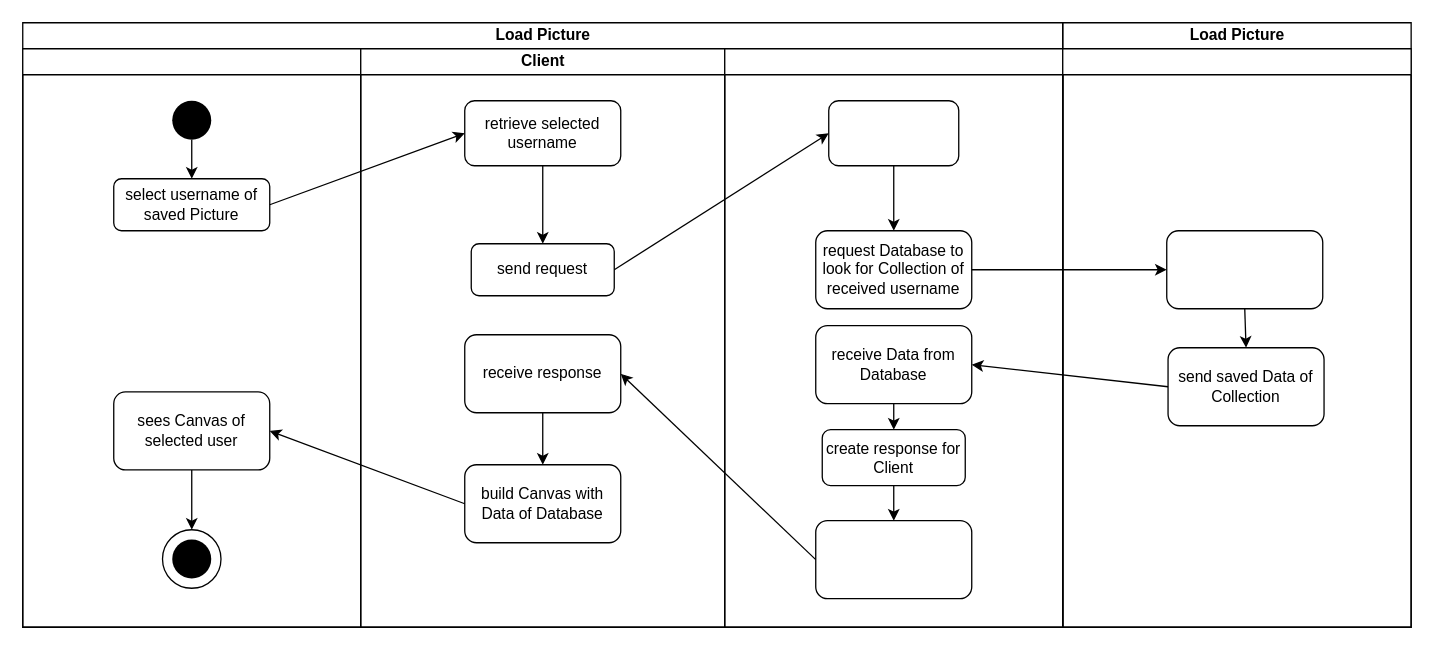
Image size: 1434x650. Some labels were removed from this diagram. Here are the shapes that lost their labels. From the top down, the box of each, then its label:
(827, 99, 959, 166): receive request
(1165, 229, 1323, 309): find Collection of received username
(21, 47, 361, 627): Customer
(723, 47, 1063, 627): Server
(1061, 47, 1411, 627): Database
(814, 519, 972, 599): send response
